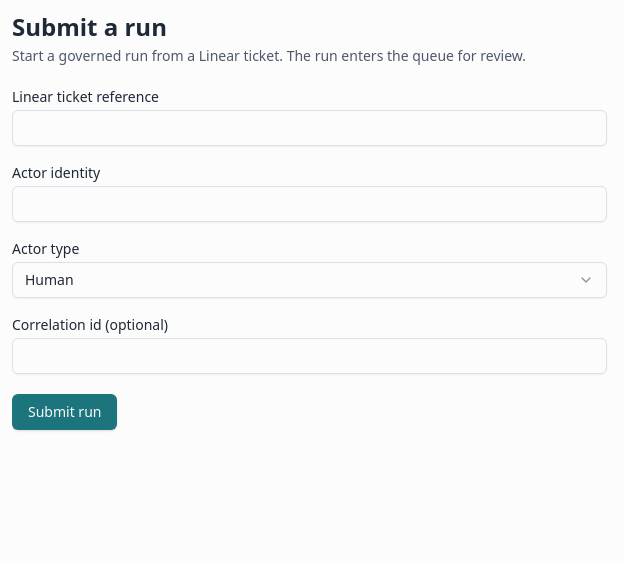
SubmitRunForm — happy submit + persistent success (AC4/AC6) › posts the body and renders a persistent success with runId, Inbox, and a detail link
Type "LIN-2210" into the field labelled "Linear ticket reference" at (309, 128), box x1=12 y1=110 x2=607 y2=146
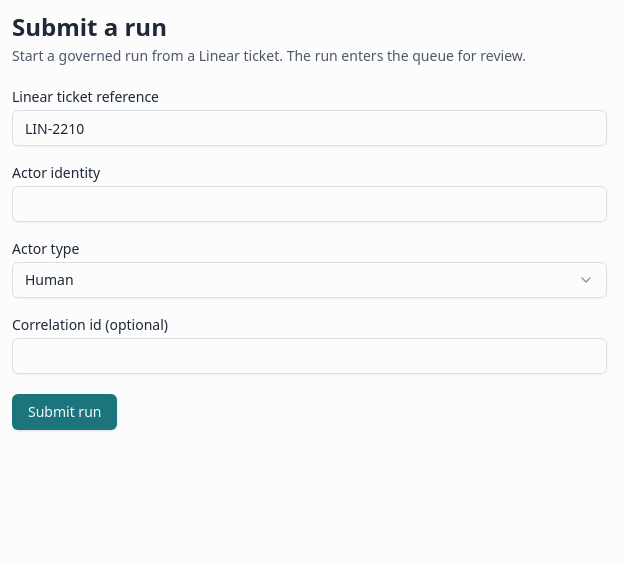
Type "alex@example.com" into the field labelled "Actor identity" at (309, 204), box x1=12 y1=186 x2=607 y2=222
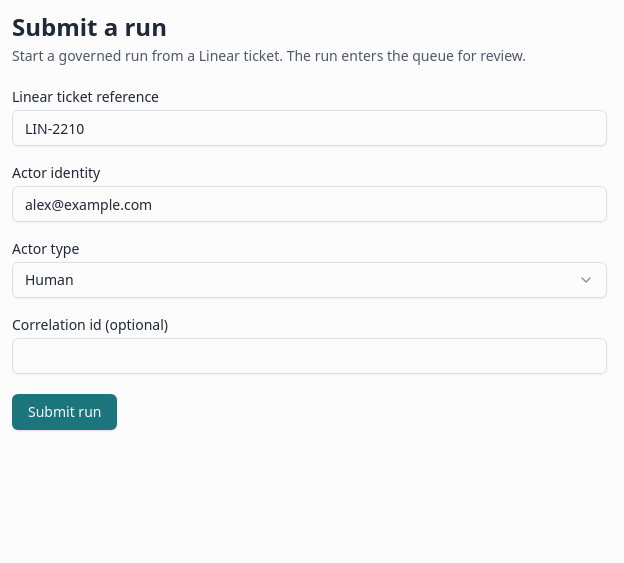
Click the button with test id "submit-run-button" at (65, 412), box x1=12 y1=394 x2=117 y2=430
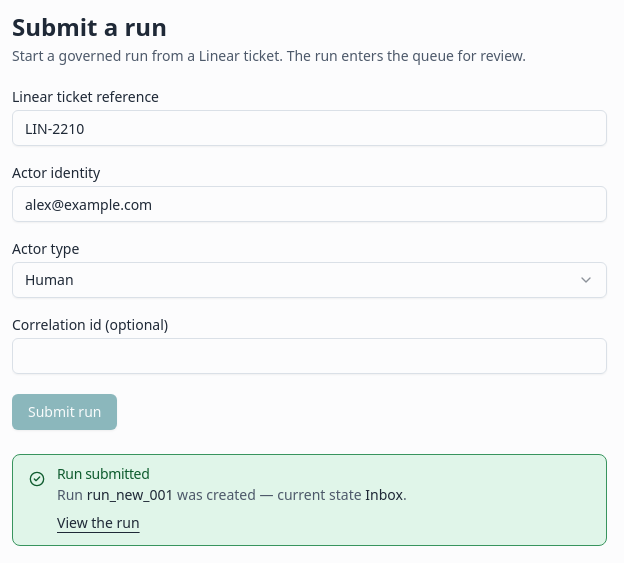
Check: the message with test id "submit-success" shows "run_new_001", box x1=87 y1=485 x2=174 y2=504
Check: the message with test id "submit-success" shows "Inbox", box x1=365 y1=485 x2=403 y2=504
